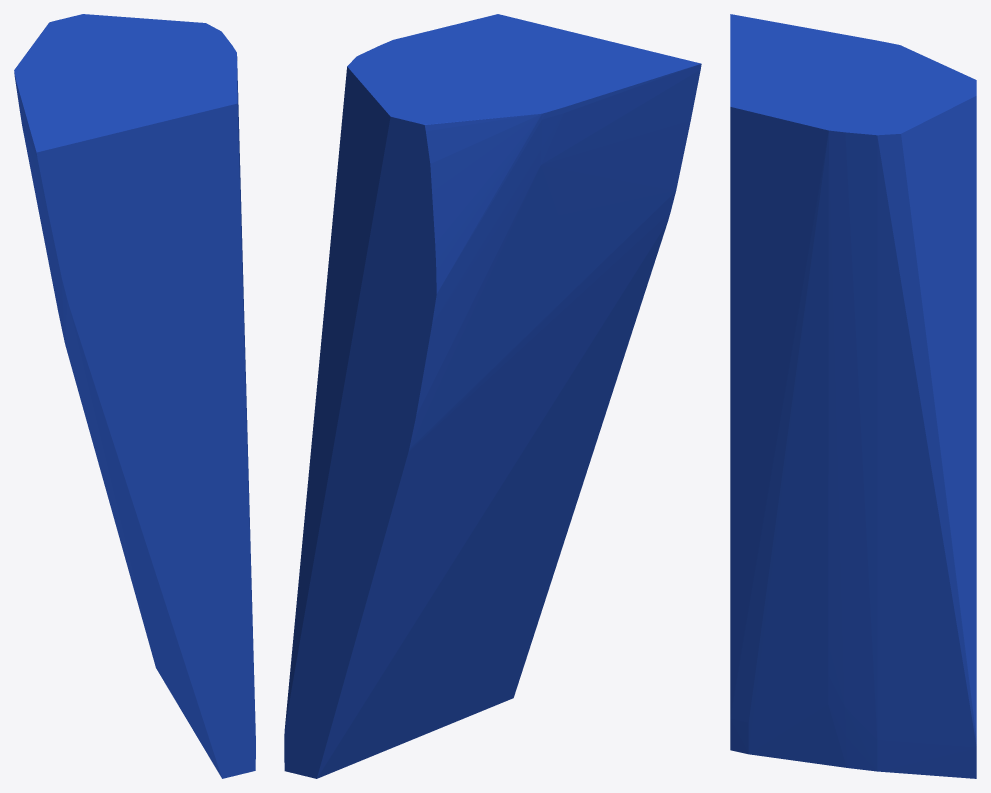
The model's file is left-shoulder-pitch-0_part_133.obj.
The picture shows the model from 3 angles, left to right: view 1: azimuth 30°, elevation 25°; view 2: azimuth 150°, elevation 25°; view 3: azimuth 270°, elevation 25°; orthographic projection. The views are drawn at different scales.
Size of the model in its own units: 0.0108 by 0.0246 by 0.00866.
